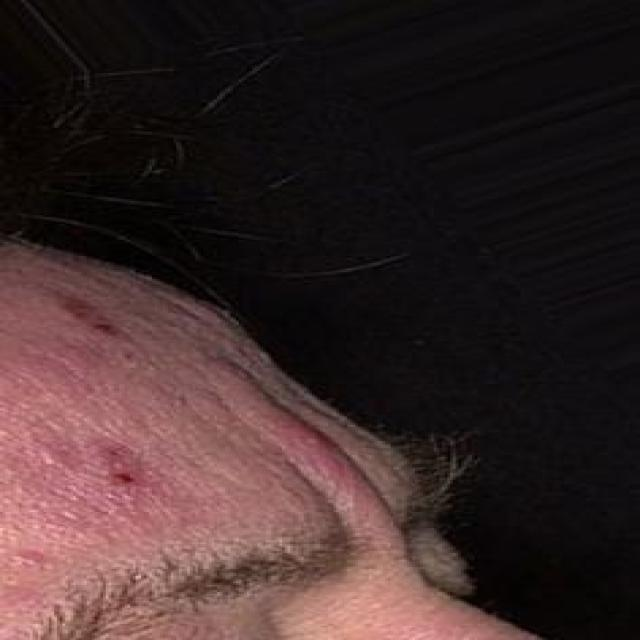Rosacea: (0, 293, 197, 624), (219, 360, 377, 531)
